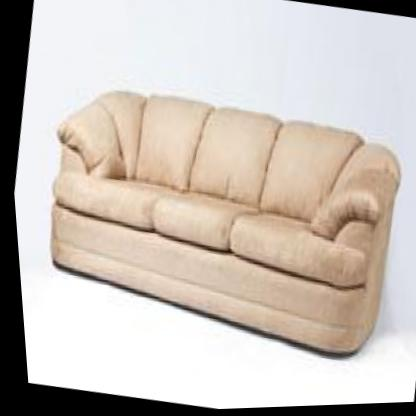Sofa: (17, 64, 416, 380)
